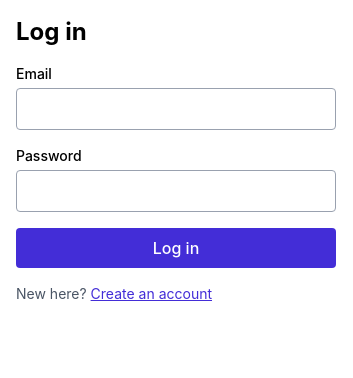
Test: LoginView › maps rate_limited to a message
In the field with id "email": (176, 109) [16,88,336,130], type "a@b.co"
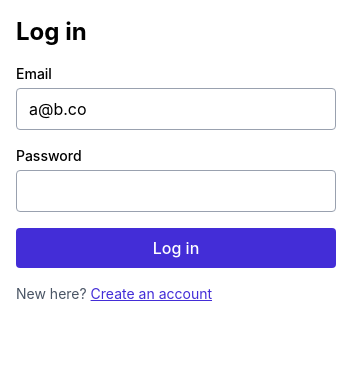
In the password field labelled "Password": (176, 191) [16,170,336,212], type "secretpassword"
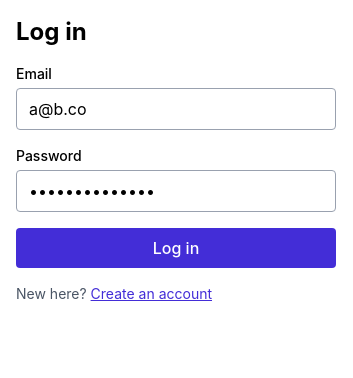
Submit the form
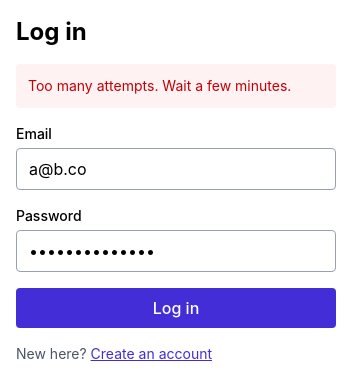
Result: the message "Too many attempts. Wait a few minutes." is shown at [16,64,336,108]
